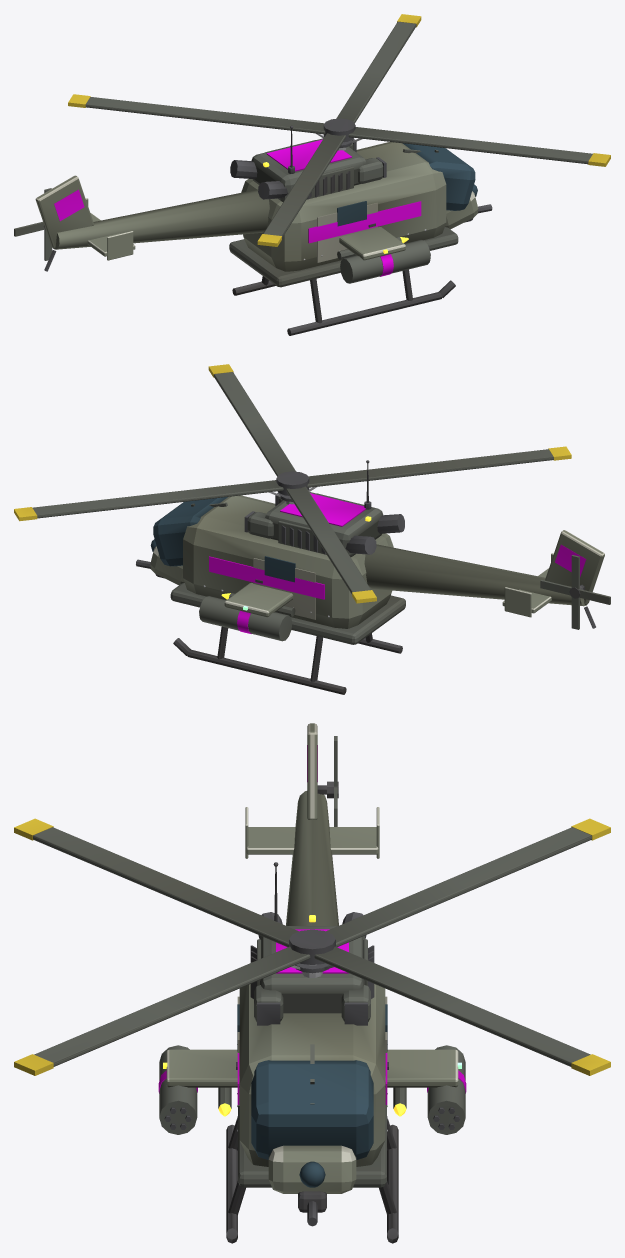
The model's file is gunship.glb.
3 views of the same model, one above another, from view 1: azimuth 30°, elevation 25°; view 2: azimuth 150°, elevation 25°; view 3: azimuth 270°, elevation 25° (orthographic). The views are drawn at different scales.
Parts seen in each view (by area): view 1: Body, Rotor, TailRotor; view 2: Body, Rotor, TailRotor; view 3: Body, Rotor.
Boxes of the visible parts, x1,y1,x2,y2 form: Body: (35,125,492,335); Rotor: (68,14,610,246); TailRotor: (14,188,52,260); Body: (136,460,604,694); Rotor: (14,364,571,603); TailRotor: (540,555,610,629); Body: (158,723,466,1243); Rotor: (14,818,610,1075).
Size of the model in its own units: 5.72 by 2.16 by 4.09.
1 material, 1 textured.
